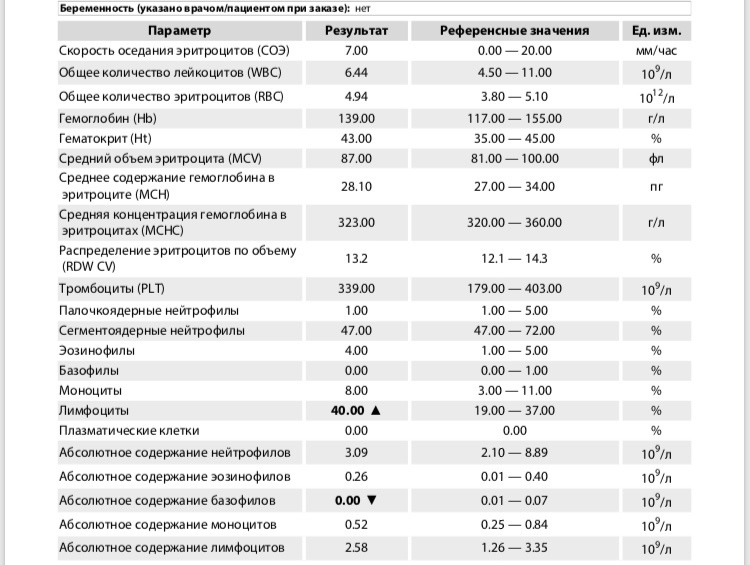column: (58, 21, 297, 555), (439, 21, 590, 555), (323, 21, 389, 555), (631, 21, 681, 555)
